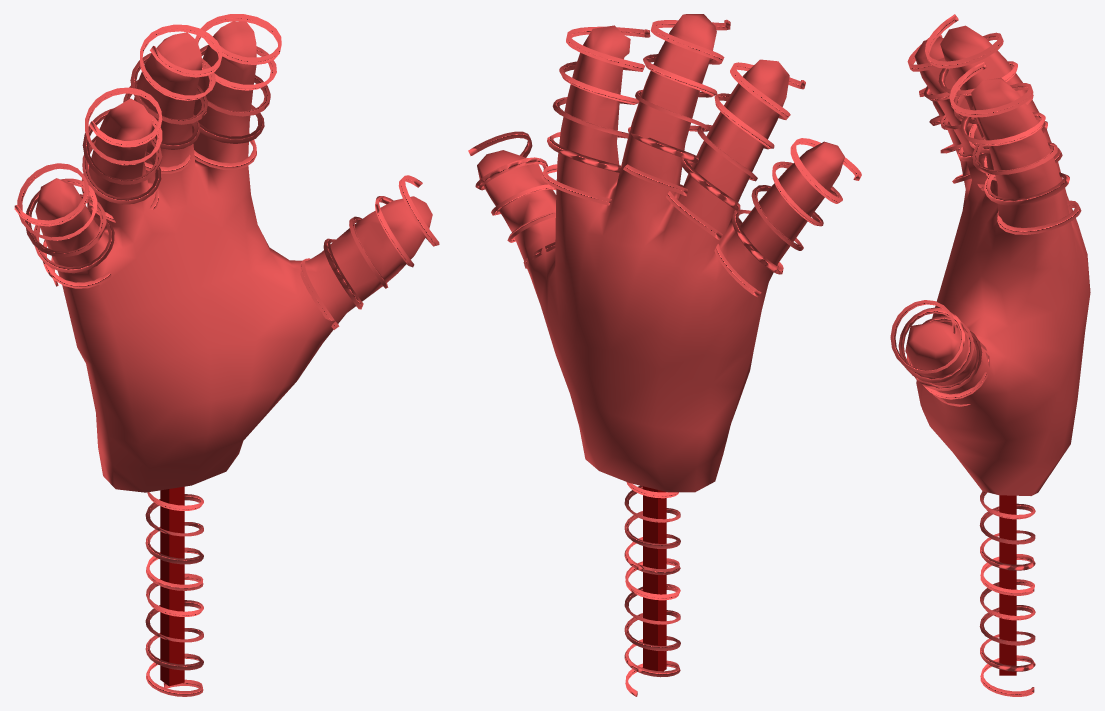
File: Slap_1.fbx
3 views of the same model, side by side, from view 1: azimuth 30°, elevation 25°; view 2: azimuth 150°, elevation 25°; view 3: azimuth 270°, elevation 25° (orthographic). The views are drawn at different scales.
Parts seen in each view (by area): view 1: Hand1, Coilmesh1, Handle1, Coilmesh2, Coilmesh4, Coilmesh3, Coilmesh6, Coilmesh5, Coilmesh7; view 2: Hand1, Coilmesh4, Handle1, Coilmesh1, Coilmesh3, Coilmesh2, Coilmesh5, Coilmesh6, Coilmesh7; view 3: Hand1, Coilmesh4, Coilmesh6, Handle1, Coilmesh5, Coilmesh3, Coilmesh7, Coilmesh2, Coilmesh1.
Part boxes in pixels (box(x1,y1,x2,y2)): Hand1: box(35, 21, 432, 492); Coilmesh1: box(14, 163, 114, 288); Handle1: box(160, 486, 184, 686); Coilmesh2: box(81, 87, 162, 222); Coilmesh4: box(192, 14, 281, 169); Coilmesh3: box(123, 24, 222, 173); Coilmesh6: box(299, 175, 439, 329); Coilmesh5: box(145, 552, 203, 696); Coilmesh7: box(145, 492, 203, 590); Hand1: box(477, 14, 844, 492); Coilmesh4: box(541, 26, 650, 205); Handle1: box(643, 486, 666, 671); Coilmesh1: box(714, 138, 861, 297); Coilmesh3: box(621, 19, 730, 196); Coilmesh2: box(666, 62, 805, 240); Coilmesh5: box(624, 558, 680, 696); Coilmesh6: box(468, 131, 556, 268); Coilmesh7: box(624, 482, 680, 594); Hand1: box(905, 25, 1090, 495); Coilmesh4: box(949, 61, 1081, 234); Coilmesh6: box(890, 300, 989, 406); Handle1: box(999, 495, 1016, 675); Coilmesh5: box(979, 554, 1035, 696); Coilmesh3: box(925, 14, 1062, 180); Coilmesh7: box(979, 491, 1035, 595); Coilmesh2: box(907, 35, 986, 190); Coilmesh1: box(919, 87, 971, 183).
Size of the model in its own units: 262 by 423 by 117.
